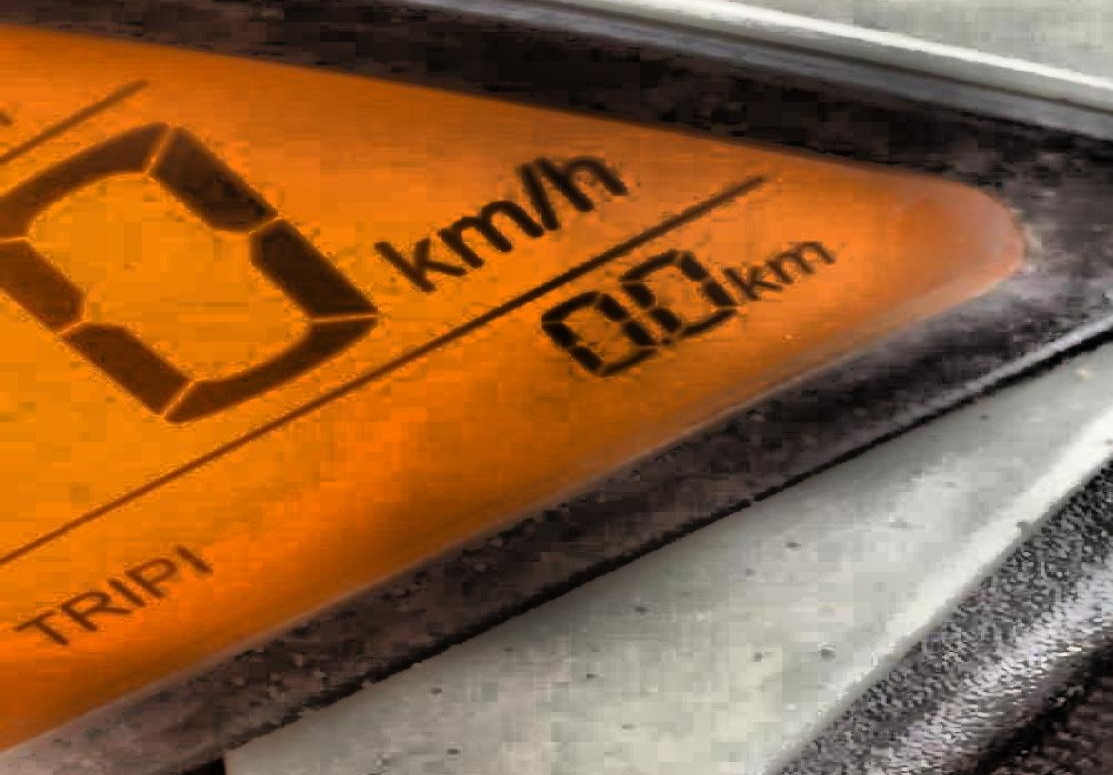-: (649, 334, 680, 349)
0: (0, 119, 375, 419), (617, 248, 735, 333), (533, 290, 651, 375)
1: (173, 544, 208, 574)
X: (437, 198, 533, 267), (531, 153, 624, 209), (373, 236, 459, 289), (513, 163, 555, 228), (764, 240, 826, 283), (60, 591, 126, 631), (122, 556, 173, 597), (720, 263, 771, 298), (13, 609, 62, 644), (106, 577, 142, 608)
